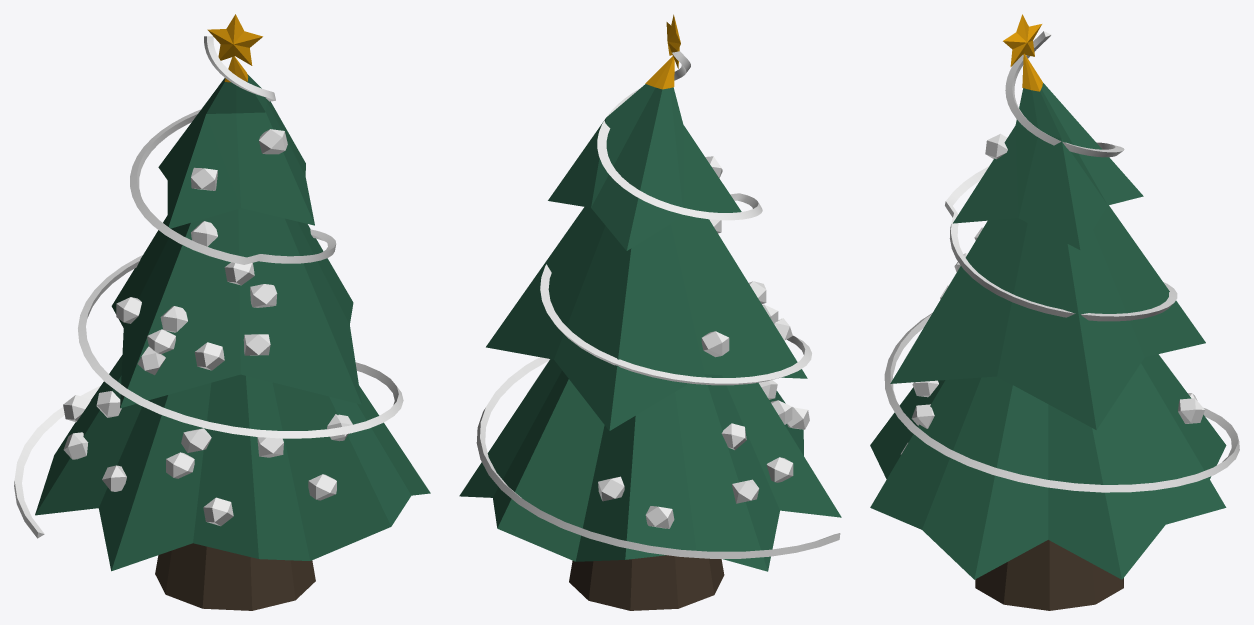
File: Ch3_Tree.FBX
The picture shows the model from 3 angles, left to right: view 1: azimuth 30°, elevation 25°; view 2: azimuth 150°, elevation 25°; view 3: azimuth 270°, elevation 25°; orthographic projection. The views are drawn at different scales.
Visible parts, largest first — view 1: Tree, Helix002, Hedra025, Hedra034, Hedra033, Hedra024, Hedra029, Hedra035, Hedra030, Hedra026, Hedra036; view 2: Tree, Helix002, Hedra037, Hedra040, Hedra041, Hedra039; view 3: Tree, Helix002, Hedra039.
Boxes of the visible parts, x1,y1,x2,y2 form: Tree: [35, 14, 430, 610]; Helix002: [14, 36, 403, 538]; Hedra025: [203, 497, 233, 526]; Hedra034: [194, 342, 224, 370]; Hedra033: [259, 129, 287, 154]; Hedra024: [308, 474, 336, 500]; Hedra029: [166, 452, 194, 478]; Hedra035: [250, 284, 277, 307]; Hedra030: [243, 334, 270, 355]; Hedra026: [181, 428, 211, 452]; Hedra036: [191, 167, 217, 190]; Tree: [459, 14, 841, 610]; Helix002: [476, 51, 840, 558]; Hedra037: [701, 331, 729, 357]; Hedra040: [645, 506, 674, 528]; Hedra041: [767, 457, 793, 482]; Hedra039: [598, 476, 624, 501]; Tree: [870, 14, 1226, 610]; Helix002: [884, 31, 1239, 492]; Hedra039: [1178, 398, 1204, 423].
Bounding box in the file's own units: 248 × 386 × 232.
